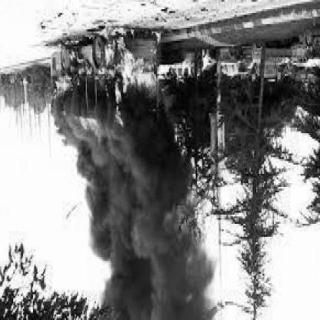Fire: (94, 28, 160, 108), (73, 118, 103, 154), (49, 74, 71, 110)
Smoke: (129, 112, 175, 152)
